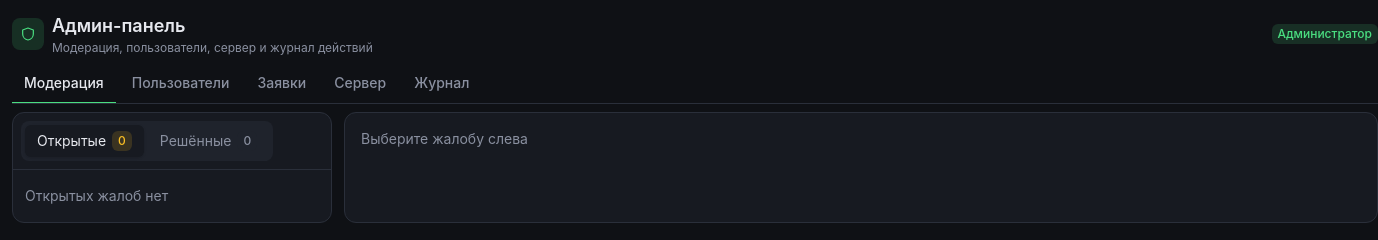
Test: requests tab › shows an empty state without requests
The image size is (1378, 240).
Click the tab "Заявки" at (282, 84), box [245,64,318,104]
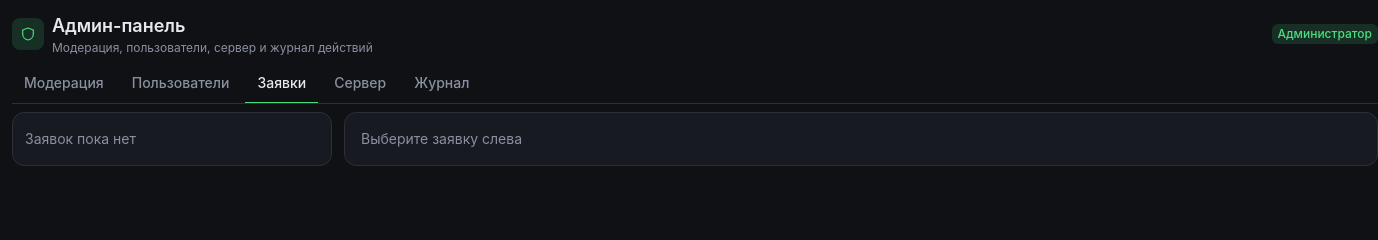
Result: the text "Заявок пока нет" is shown at [25,130,136,147]
Result: the text "Выберите заявку слева" is shown at [361,130,522,147]
